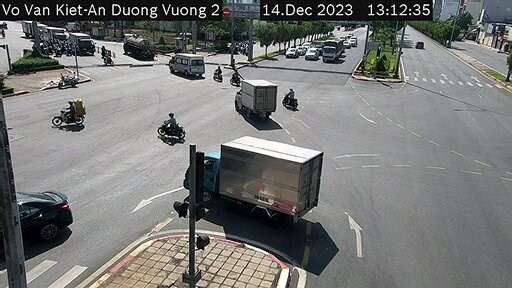car: (8, 178, 77, 251), (169, 47, 206, 80), (303, 45, 316, 61), (286, 45, 296, 61)
motorbike: (52, 95, 86, 129), (153, 111, 185, 142), (283, 86, 299, 111), (223, 70, 238, 90), (214, 65, 225, 84)
truck: (192, 132, 323, 216), (233, 76, 276, 120), (68, 30, 97, 57), (323, 39, 343, 65)
